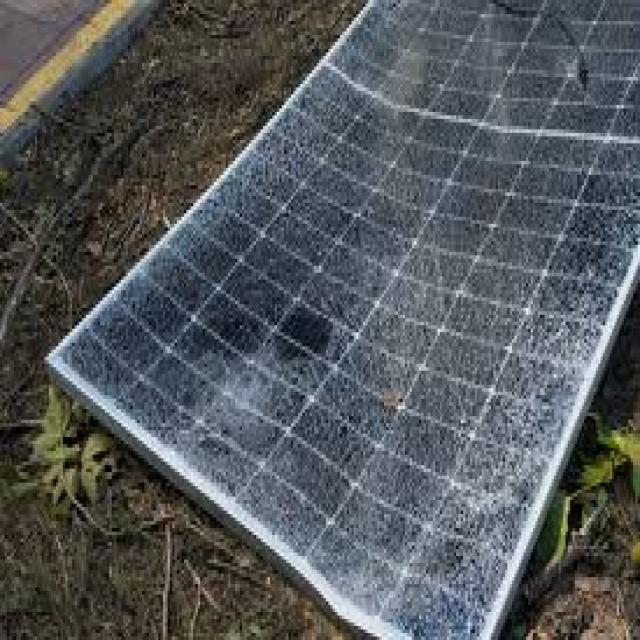faulty: (53, 2, 640, 640)
